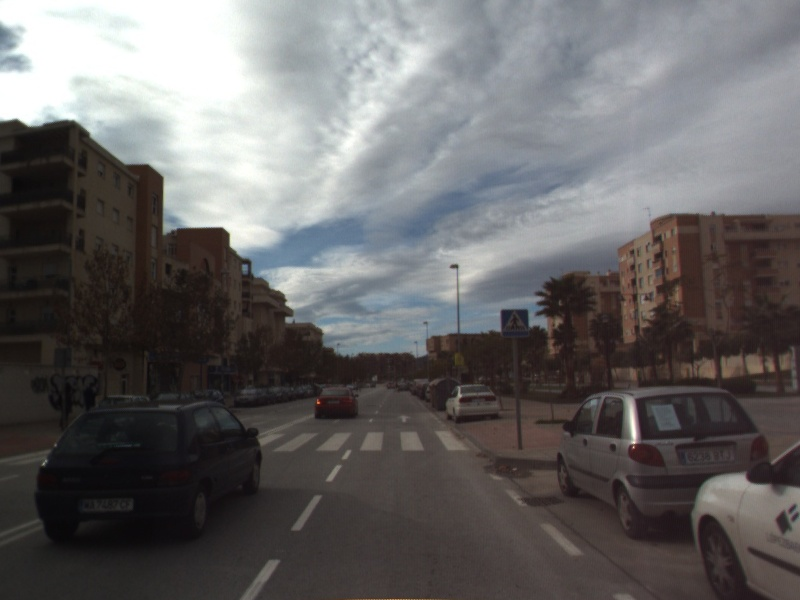STRAIGHT: (395, 412, 414, 424)
